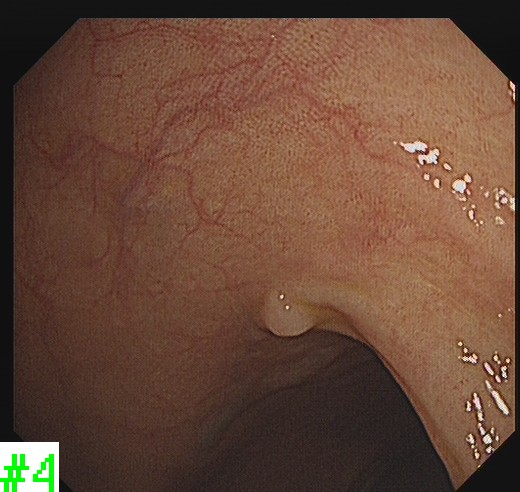others: (257, 287, 327, 340)
